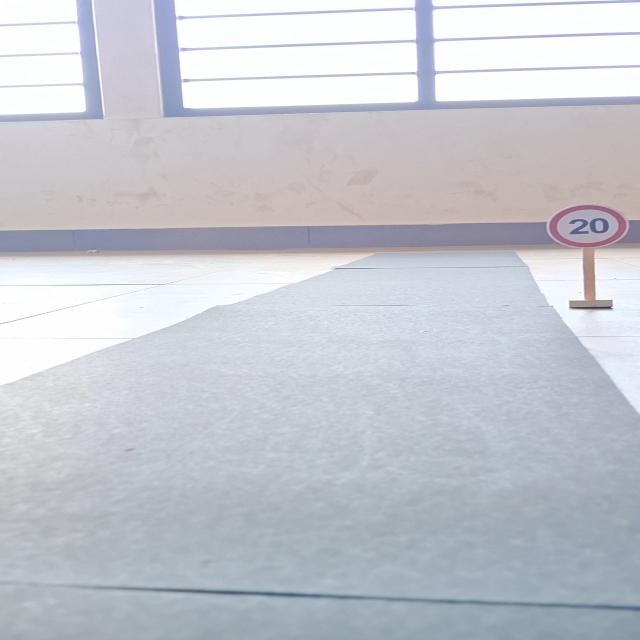Speed20: (543, 203, 635, 248)
